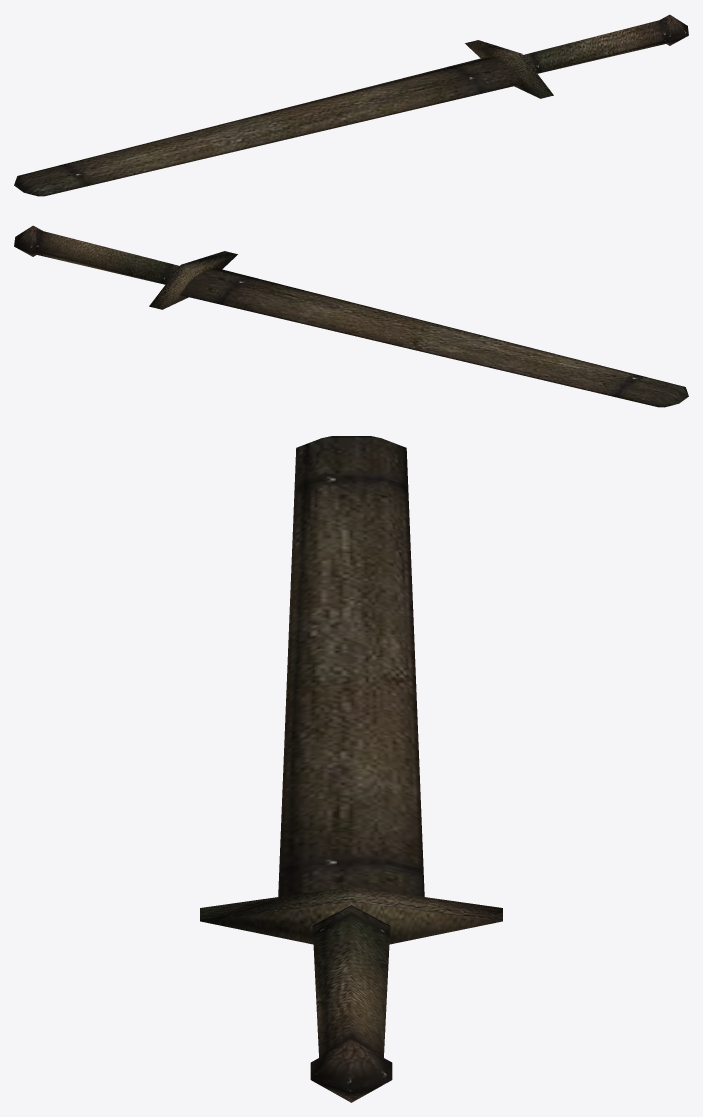
File: KM_VOB_WOOD_SWORD_01.glb
3 renders of one model, top to bottom at view 1: azimuth 30°, elevation 25°; view 2: azimuth 150°, elevation 25°; view 3: azimuth 270°, elevation 25°, orthographic. The views are drawn at different scales.
Visible parts, largest first — view 1: Mesh; view 2: Mesh; view 3: Mesh.
Boxes of the visible parts, box(x1,y1,x2,y2) form: Mesh: box(14, 14, 688, 196); Mesh: box(14, 225, 688, 407); Mesh: box(200, 436, 502, 1102).
Bounding box in the file's own units: 1.16 × 0.0522 × 0.2271.
Materials: 1 (1 with a texture image).
